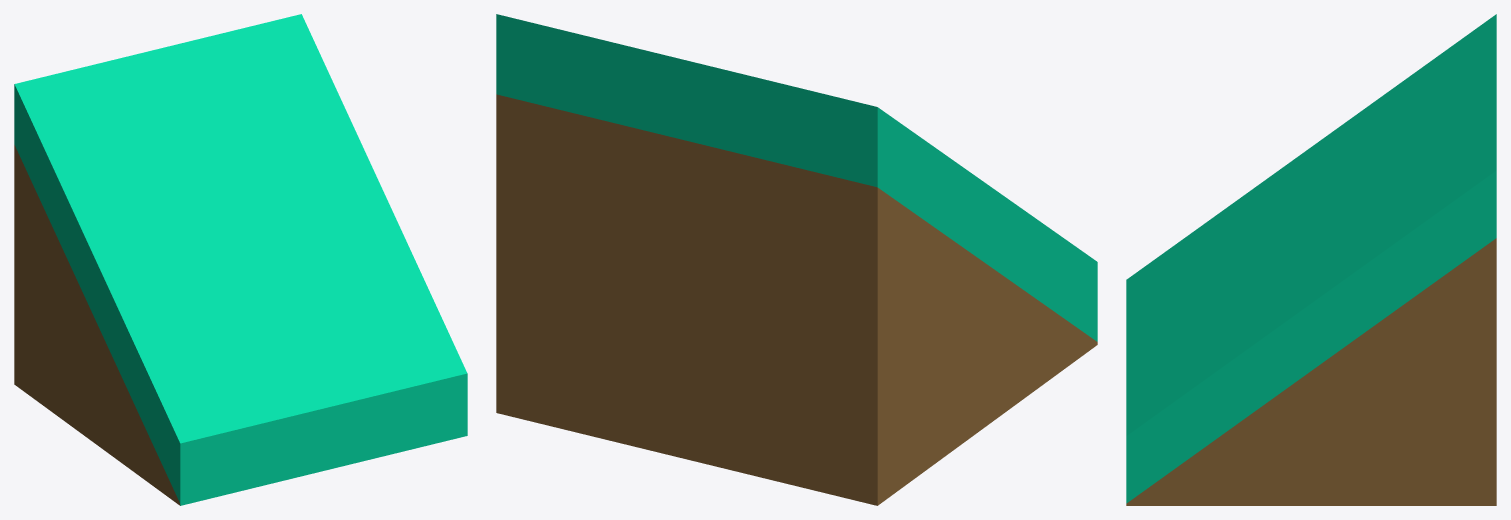
File: DirtRamp_Temp.fbx
The picture shows the model from 3 angles, left to right: view 1: azimuth 30°, elevation 25°; view 2: azimuth 150°, elevation 25°; view 3: azimuth 270°, elevation 25°; orthographic projection. The views are drawn at different scales.
Parts seen in each view (by area): view 1: pCube3; view 2: pCube3; view 3: pCube3.
Part boxes in pixels (left/top/right/bottom): pCube3: left=14, top=14, right=467, bottom=505; pCube3: left=496, top=14, right=1097, bottom=505; pCube3: left=1126, top=14, right=1496, bottom=505.
Bounding box in the file's own units: 1 × 1 × 1.
